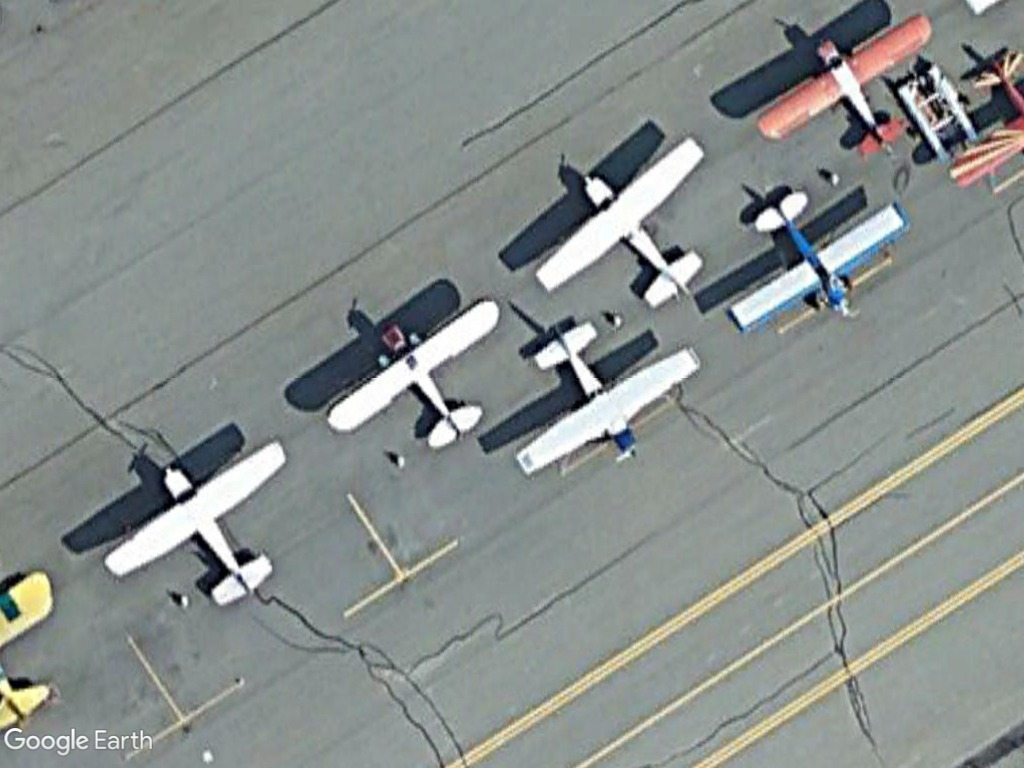trainer: (100, 435, 296, 617), (509, 315, 703, 484), (532, 133, 709, 315), (318, 295, 506, 457), (750, 3, 940, 163), (723, 186, 907, 337)
